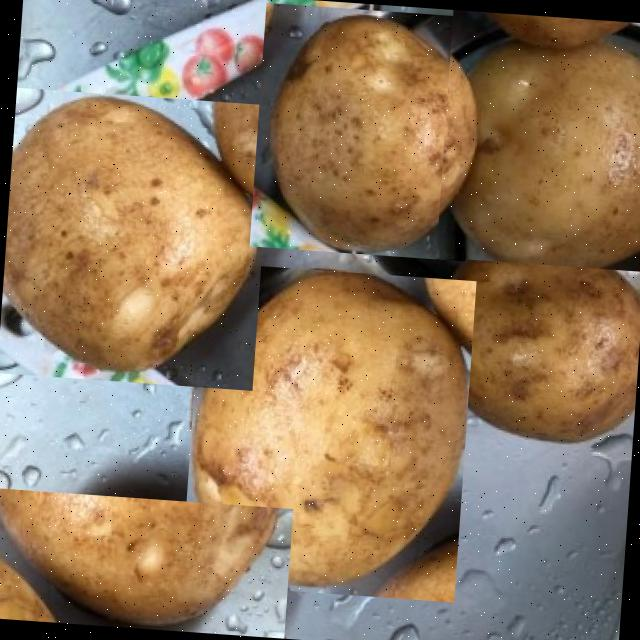Potato: (180, 261, 476, 601), (0, 86, 271, 390), (248, 1, 482, 260), (434, 8, 640, 270), (438, 225, 640, 451), (0, 486, 291, 638)
